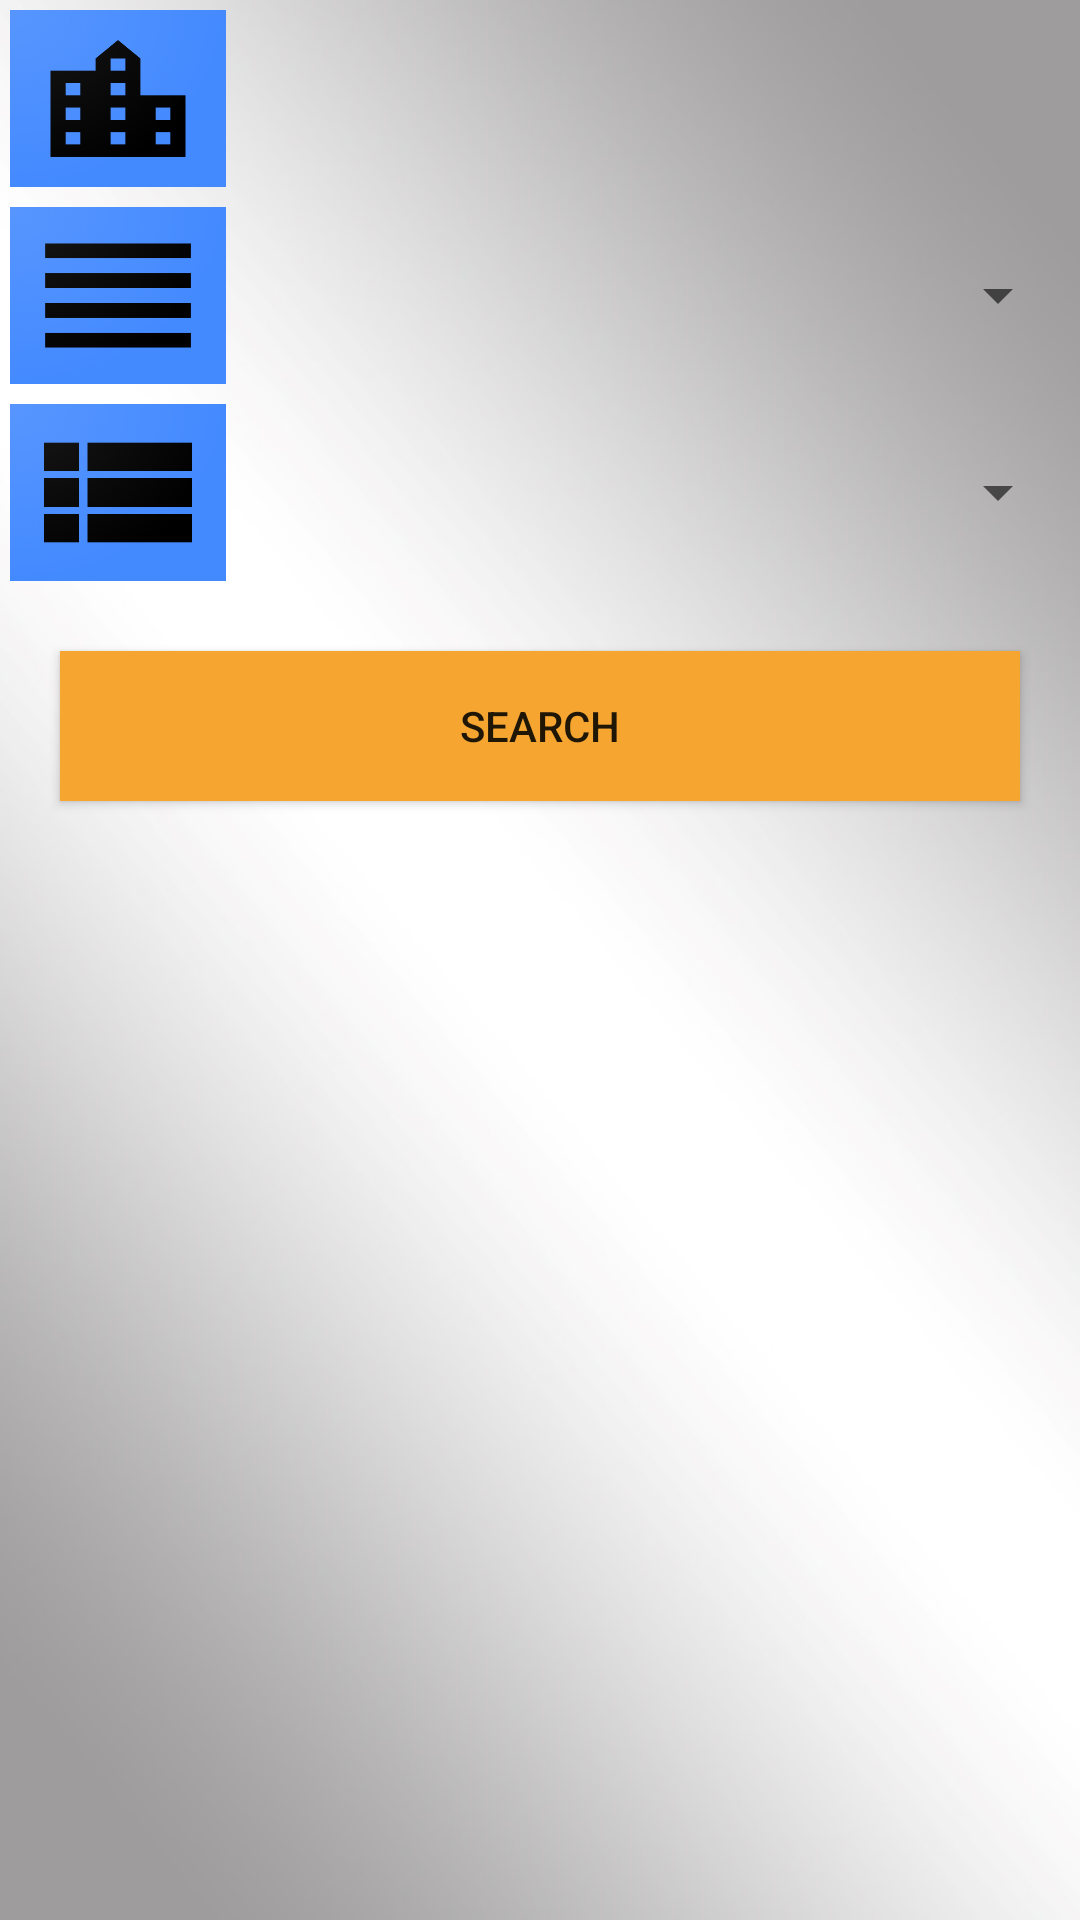

Icon bounding boxes for this 1080 × 1920 phone screenshot, format (x1, y1, x2, y2):
category: (10, 207, 226, 384)
city: (10, 10, 226, 187)
subcategory: (10, 404, 226, 581)
